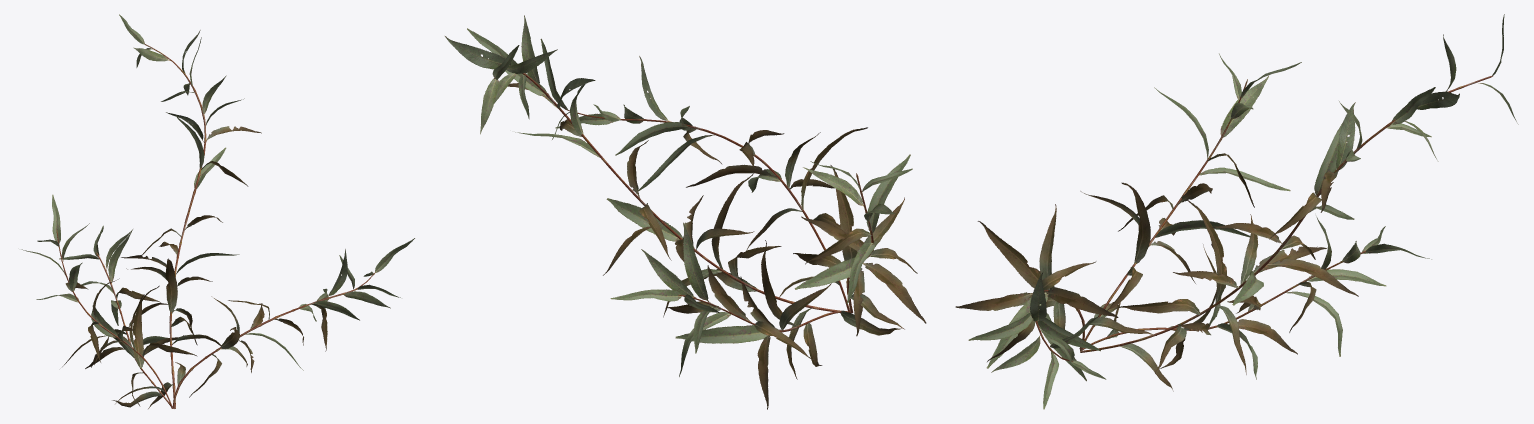
The model's file is shrub.obj.
3 views of the same model, side by side, from view 1: azimuth 30°, elevation 25°; view 2: azimuth 150°, elevation 25°; view 3: azimuth 270°, elevation 25° (orthographic). The views are drawn at different scales.
Parts seen in each view (by area): view 1: shrub; view 2: shrub; view 3: shrub.
Boxes of the visible parts, x1,y1,x2,y2 form: shrub: (21, 14, 414, 408); shrub: (445, 15, 926, 409); shrub: (955, 14, 1518, 409).
Size of the model in its own units: 1.15 by 1 by 1.17.
1 material, 1 textured.
